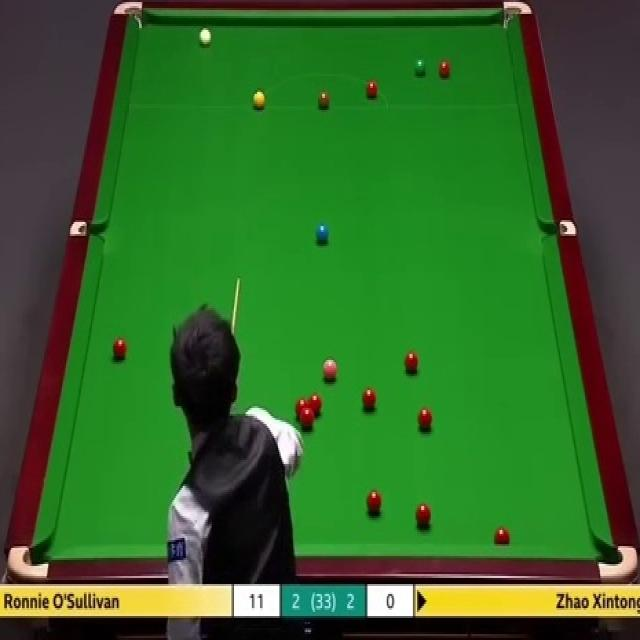blue-ball: (315, 222, 329, 245)
brown-ball: (316, 88, 330, 111)
green-ball: (412, 58, 427, 78)
pink-ball: (323, 354, 338, 382)
red-ball: (403, 349, 420, 378), (111, 336, 128, 363), (414, 503, 431, 529), (366, 489, 382, 515), (417, 405, 432, 430), (361, 387, 376, 412), (308, 394, 322, 418), (494, 526, 510, 545), (438, 60, 453, 80), (301, 410, 314, 430), (295, 398, 308, 418), (365, 80, 378, 98)
white-ball: (196, 25, 212, 48)
yellow-ball: (252, 89, 265, 109)
